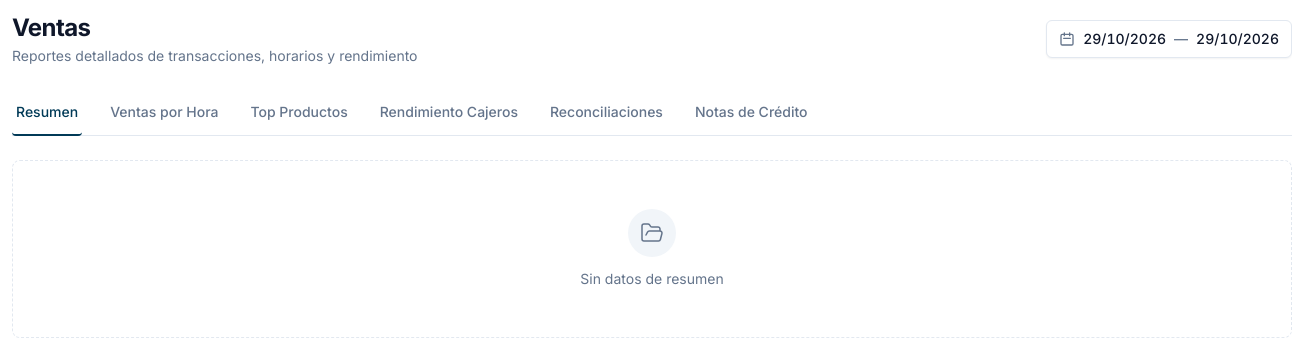
Scenario: W2 — SalesPage error states › renders empty state on hourly tab when error
Step 1. Click the button "Ventas por Hora" → (164, 113), box [106, 90, 222, 136]
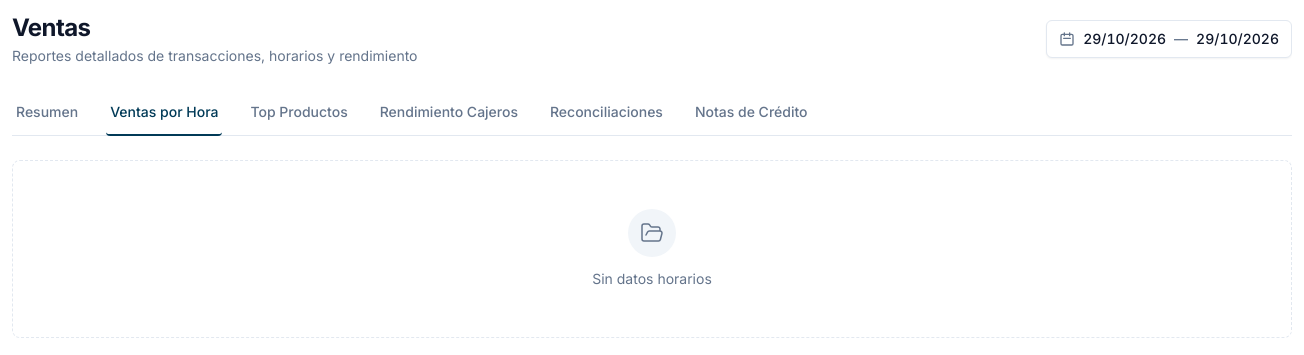
Check: the text "Sin datos horarios" is shown, box [592, 269, 712, 289]
